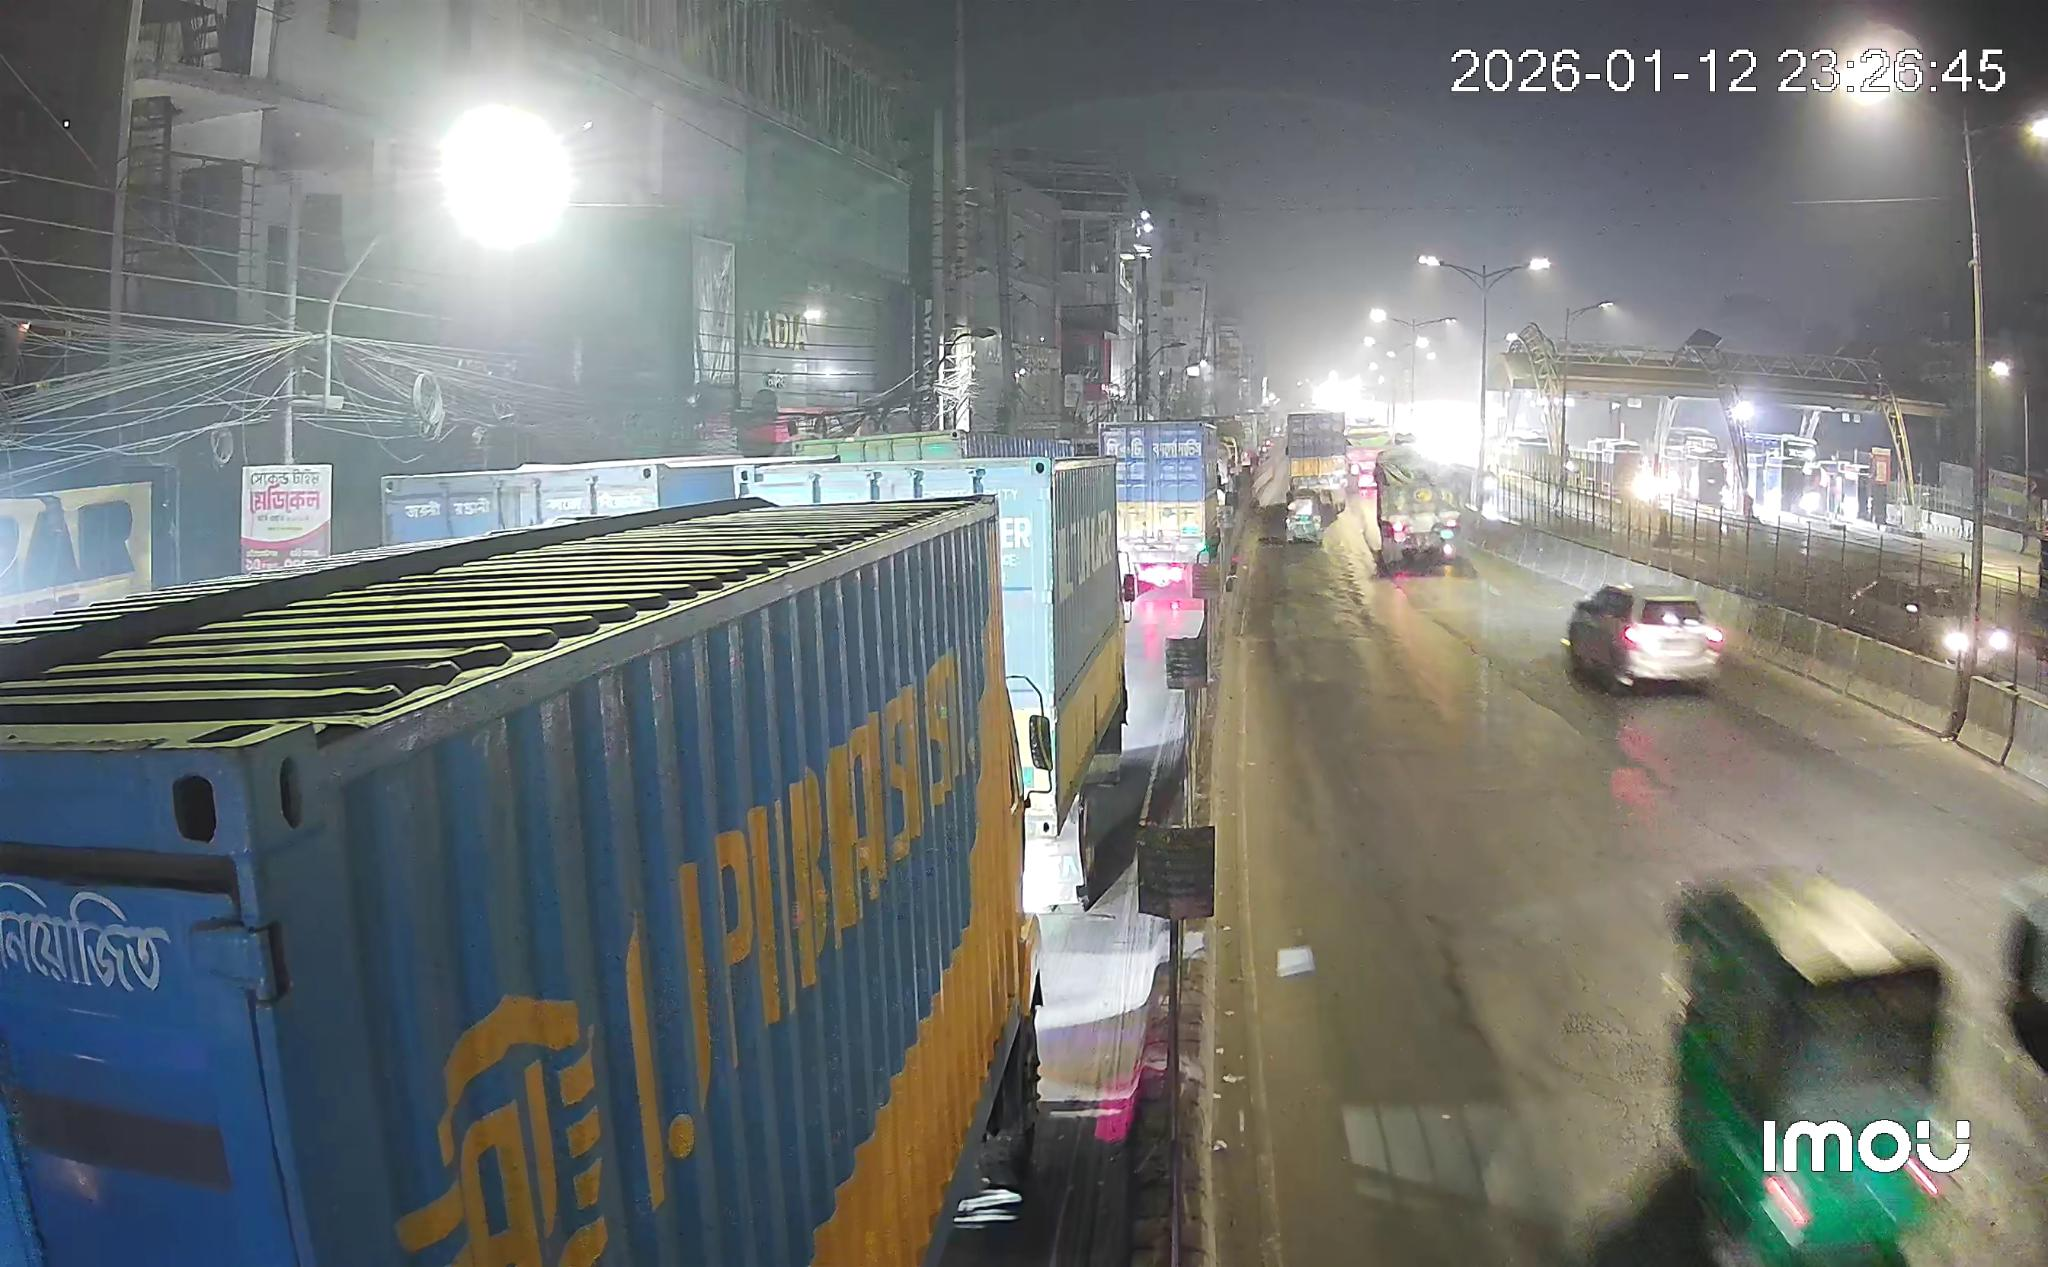CNG-Tempo: (1652, 869, 1966, 1267), (1286, 483, 1325, 544)
Private-Sedan Car: (1565, 584, 1726, 688), (1842, 576, 1970, 663), (1978, 623, 2010, 673)
Truck: (0, 493, 1050, 1267), (752, 455, 1126, 910), (1099, 420, 1219, 598), (1358, 446, 1460, 575), (1284, 413, 1349, 511), (739, 894, 745, 895)
